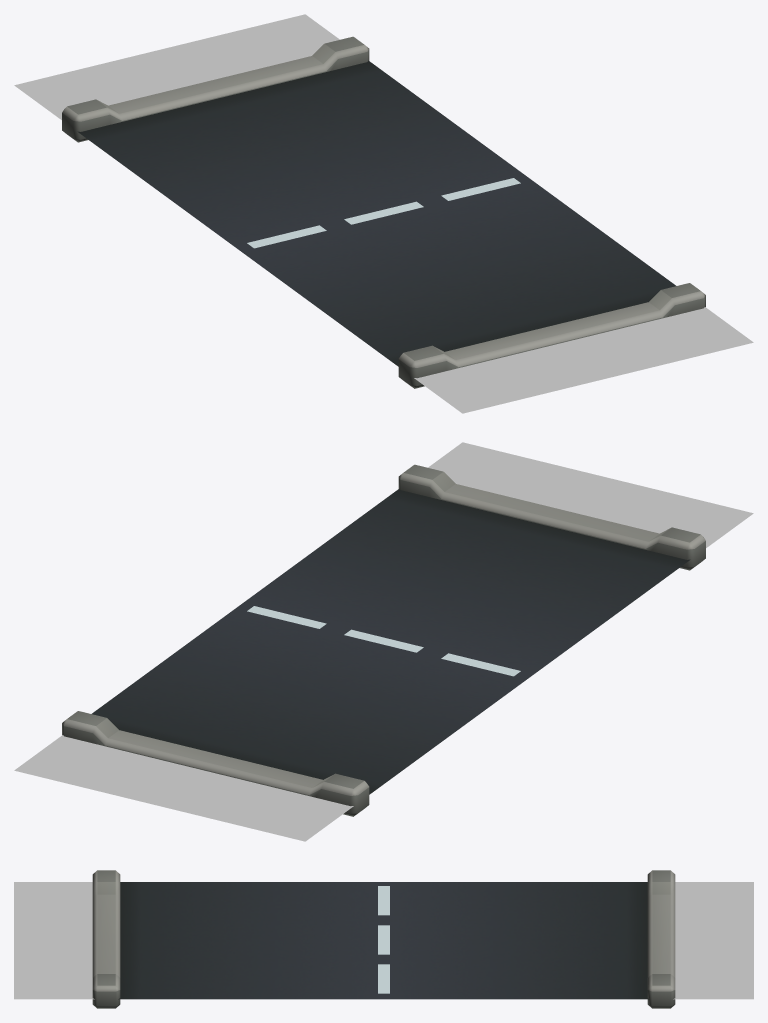
The model's file is road_section_2_driveway.fbx.
3 renders of one model, top to bottom at view 1: azimuth 30°, elevation 25°; view 2: azimuth 150°, elevation 25°; view 3: azimuth 270°, elevation 25°, orthographic. The views are drawn at different scales.
Visible parts, largest first — view 1: road_section_2_driveway, road_section_2_driveway_sidewalk; view 2: road_section_2_driveway, road_section_2_driveway_sidewalk; view 3: road_section_2_driveway, road_section_2_driveway_sidewalk.
Boxes of the visible parts, <box> form: road_section_2_driveway: <box>62,36,705,388</box>; road_section_2_driveway_sidewalk: <box>14,14,753,413</box>; road_section_2_driveway: <box>62,464,705,816</box>; road_section_2_driveway_sidewalk: <box>14,442,753,841</box>; road_section_2_driveway: <box>92,870,675,1008</box>; road_section_2_driveway_sidewalk: <box>14,882,753,999</box>.
Size of the model in its own units: 610 by 55 by 1600.
